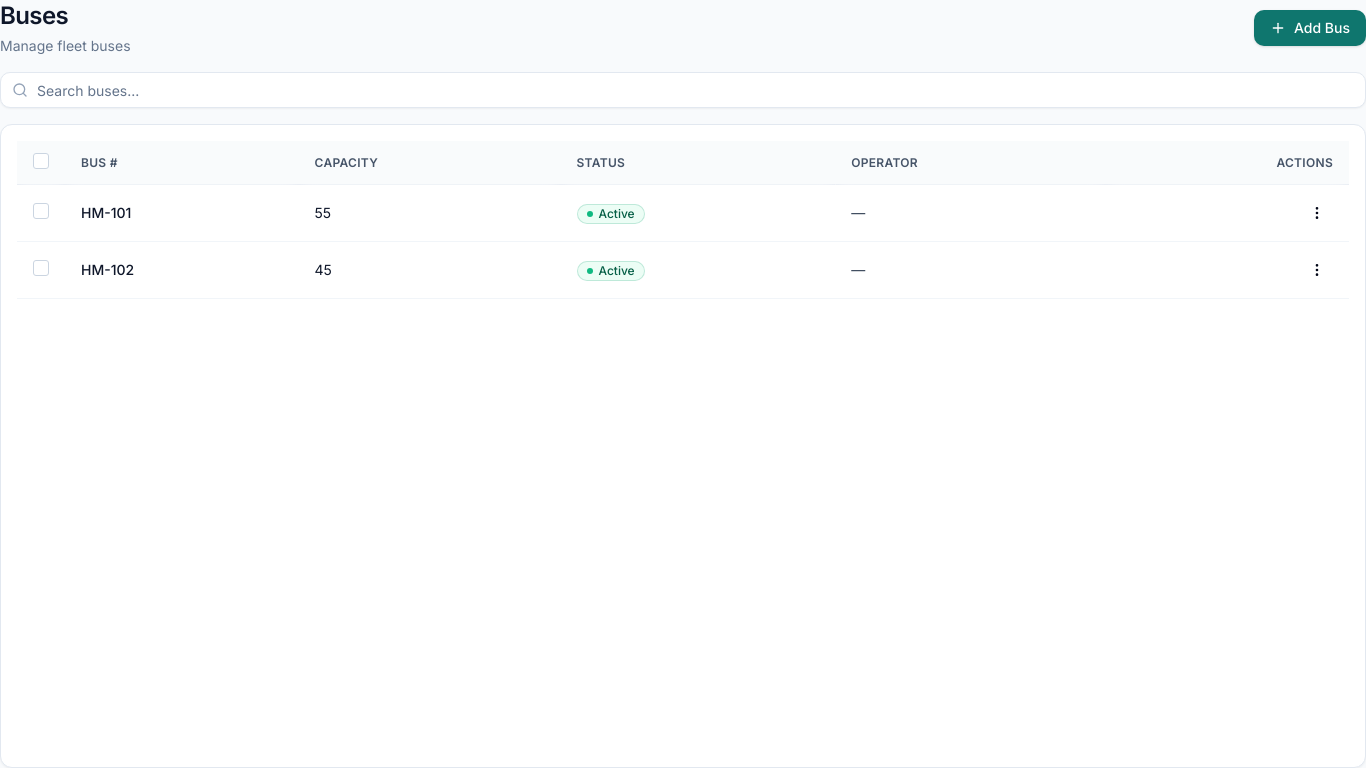
BusesPage seating layout UI › defaults the create form to 2+2
The width and height of the screenshot is (1366, 768).
Check: the text "HM-101" is shown, box [65,184,298,242]
Click the button "Add Bus" at (1310, 28), box [1254,10,1365,46]
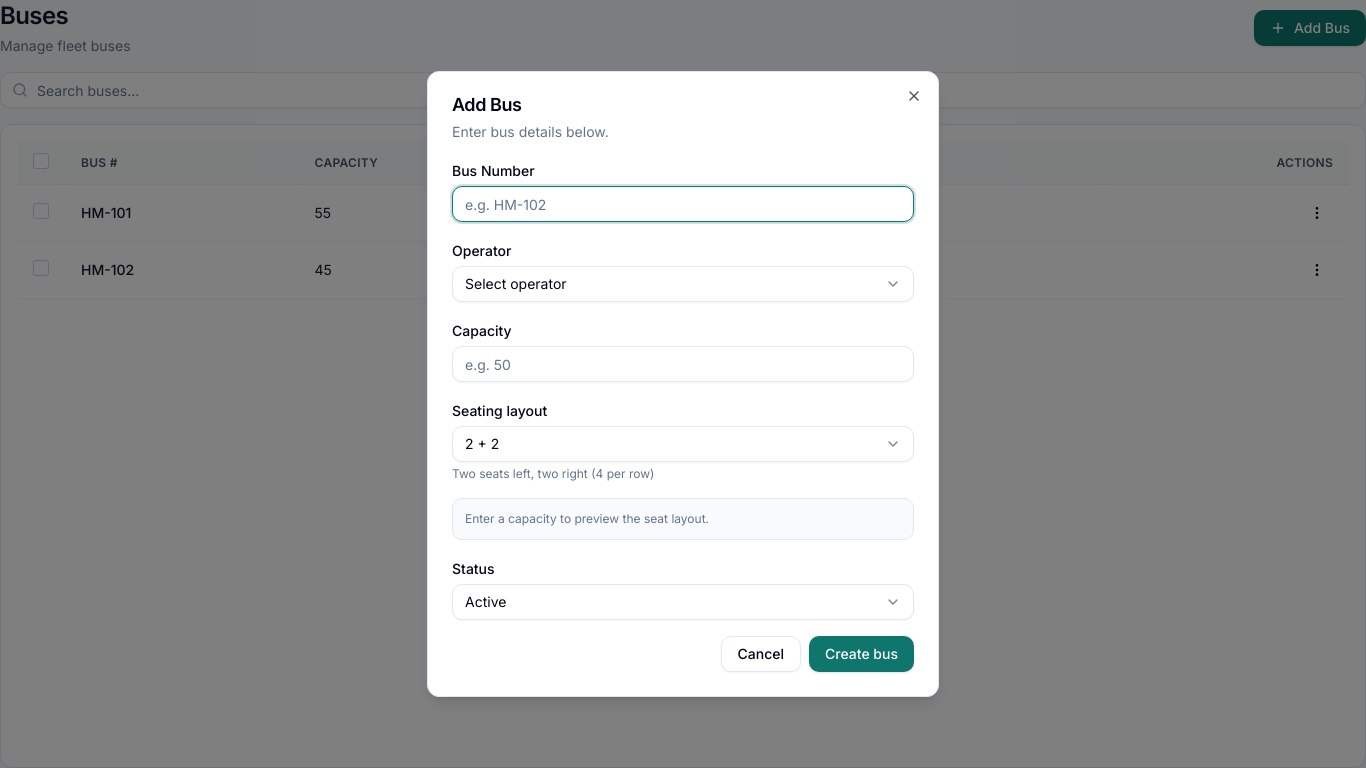
Check: the dropdown named "seating layout" reads "2 + 2", box [452,426,914,462]
